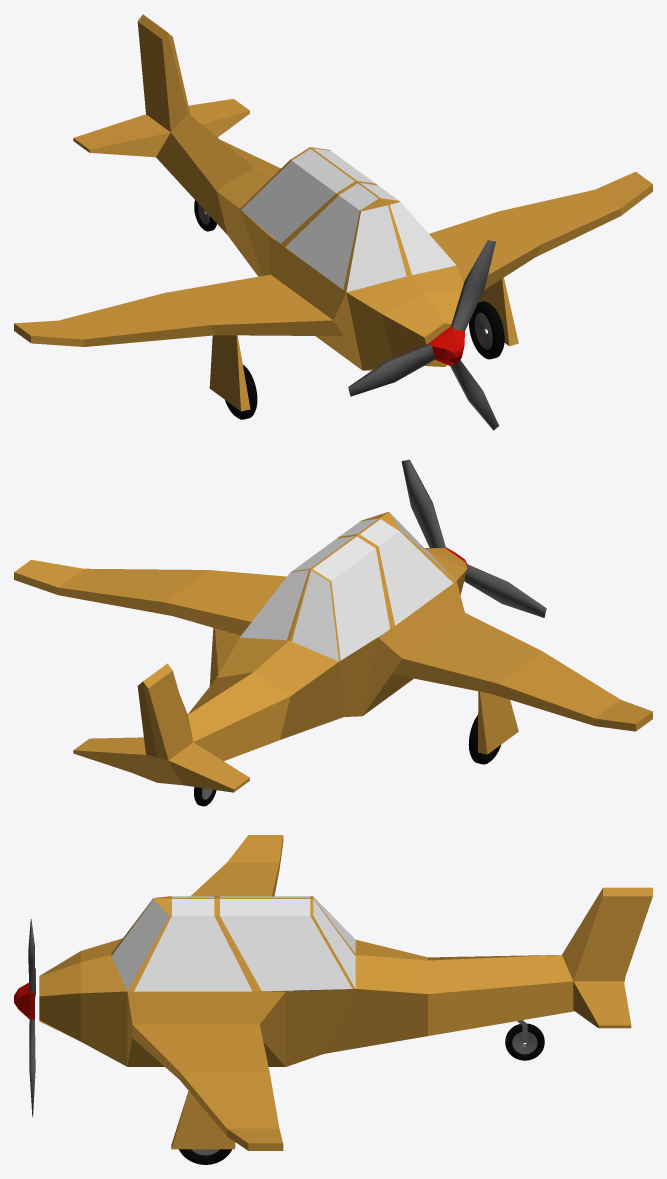
The model's file is aiplane(LowPoly).fbx.
The picture shows the model from 3 angles, top to bottom: view 1: azimuth 30°, elevation 25°; view 2: azimuth 150°, elevation 25°; view 3: azimuth 270°, elevation 25°; orthographic projection.
Visible parts, largest first — view 1: Carlinga, Oblo, elica, Ruote; view 2: Carlinga, Oblo, elica, Ruote; view 3: Carlinga, Oblo, Ruote, elica.
Boxes of the visible parts, bbox=[...] form: Carlinga: bbox=[14, 14, 652, 411]; Oblo: bbox=[240, 147, 456, 292]; elica: bbox=[348, 240, 499, 430]; Ruote: bbox=[194, 200, 504, 419]; Carlinga: bbox=[14, 548, 652, 792]; Oblo: bbox=[240, 512, 456, 661]; elica: bbox=[401, 459, 546, 617]; Ruote: bbox=[194, 715, 500, 806]; Carlinga: bbox=[39, 835, 652, 1150]; Oblo: bbox=[111, 896, 355, 991]; Ruote: bbox=[179, 1020, 544, 1164]; elica: bbox=[14, 919, 35, 1116].
Size of the model in its own units: 1459 by 474 by 1277.
